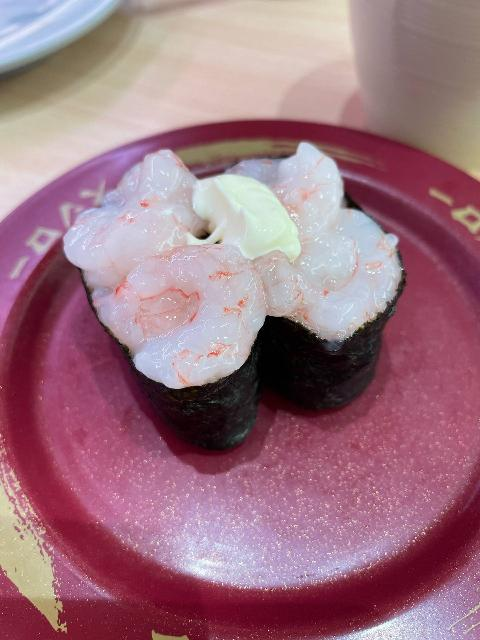janred: (0, 134, 480, 640)
janwhite: (0, 0, 152, 84)
